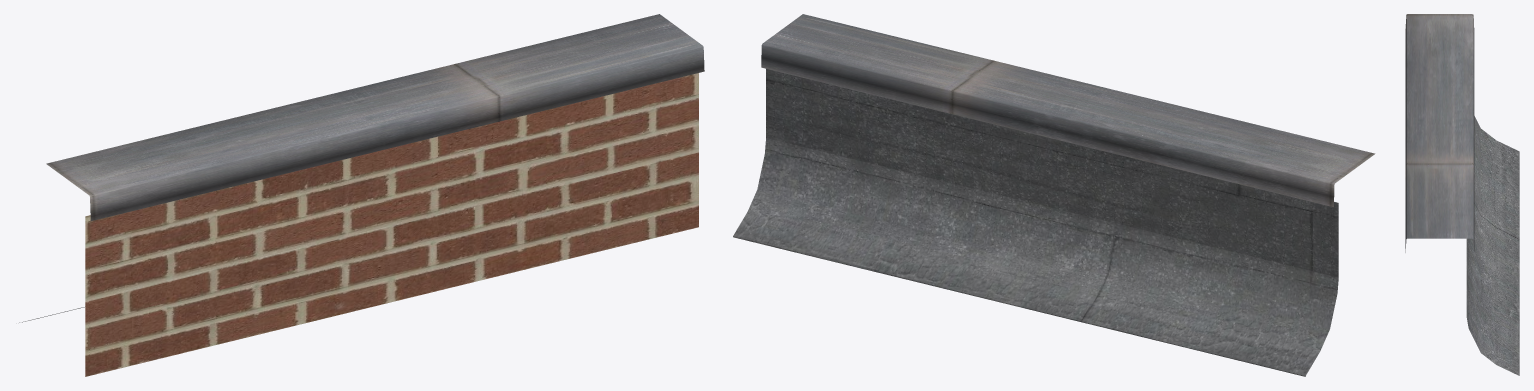
The model's file is SM_Roof_Edge_Flashing_8th_01.glb.
3 renders of one model, left to right at view 1: azimuth 30°, elevation 25°; view 2: azimuth 150°, elevation 25°; view 3: azimuth 270°, elevation 25°, orthographic. The views are drawn at different scales.
Visible parts, largest first — view 1: SM_Roof_Edge_Flashing_8th_01; view 2: SM_Roof_Edge_Flashing_8th_01; view 3: SM_Roof_Edge_Flashing_8th_01.
Boxes of the visible parts, x1,y1,x2,y2 form: SM_Roof_Edge_Flashing_8th_01: [19, 14, 704, 376]; SM_Roof_Edge_Flashing_8th_01: [733, 14, 1375, 376]; SM_Roof_Edge_Flashing_8th_01: [1405, 14, 1519, 375].
Size of the model in its own units: 2 by 0.5741 by 0.4308.
3 materials, 3 textured.
